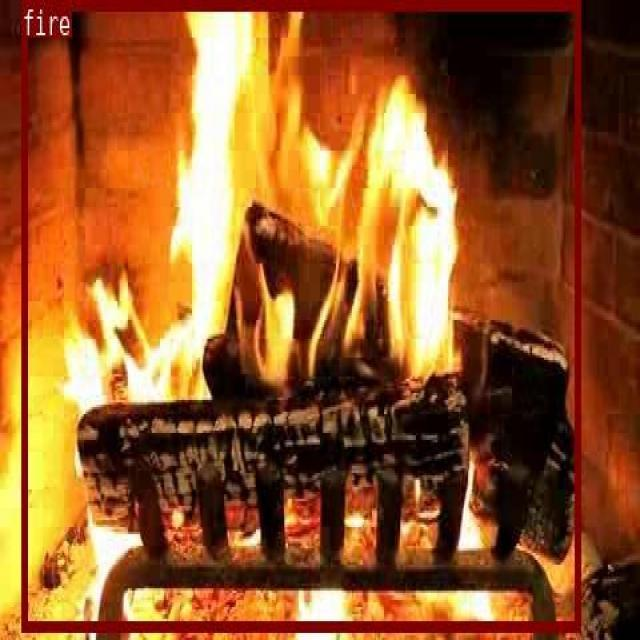fire: (21, 0, 579, 631)
